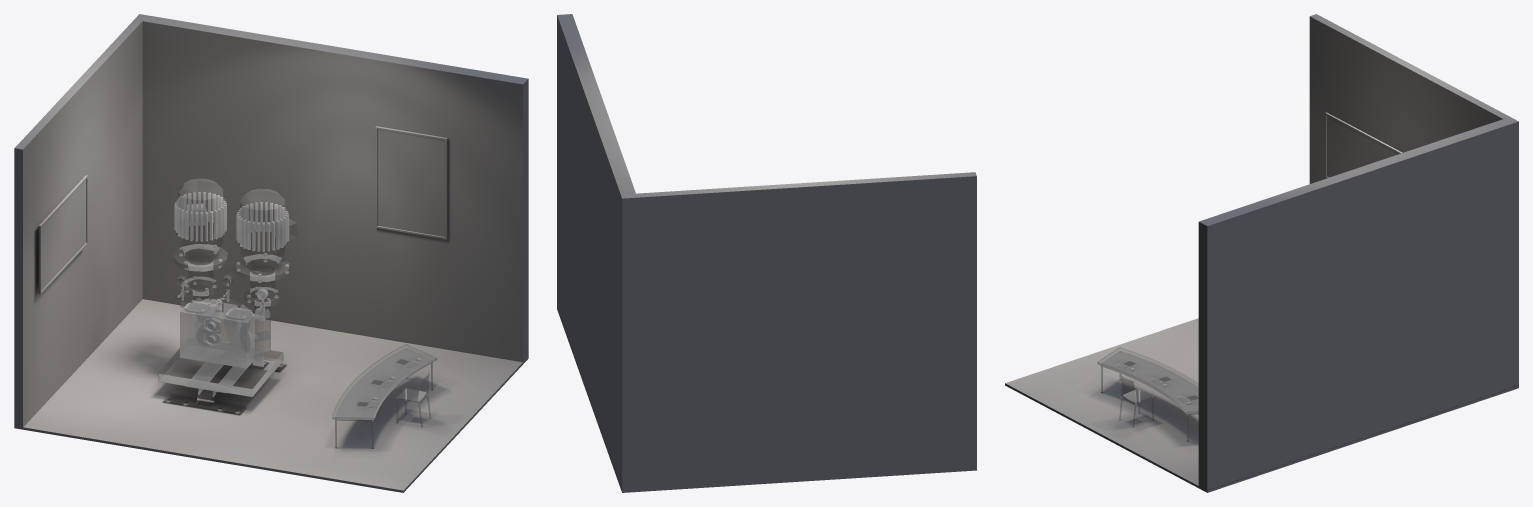
Rendered from digital_twin.glb.
3 views of the same model, side by side, from view 1: azimuth 30°, elevation 25°; view 2: azimuth 150°, elevation 25°; view 3: azimuth 270°, elevation 25° (orthographic). The views are drawn at different scales.
Parts seen in each view (by area): view 1: Wall, Macin, Arc001, Chair; view 2: Wall; view 3: Wall, Arc001, Chair.
Boxes of the visible parts, <box> form: Wall: <box>14,14,528,492</box>; Macin: <box>158,179,297,415</box>; Arc001: <box>332,344,436,448</box>; Chair: <box>396,371,430,426</box>; Wall: <box>557,14,976,492</box>; Wall: <box>1005,14,1518,492</box>; Arc001: <box>1097,347,1198,441</box>; Chair: <box>1119,375,1154,426</box>.
Size of the model in its own units: 23.63 by 13.84 by 24.18.
6 materials, 6 textured.
